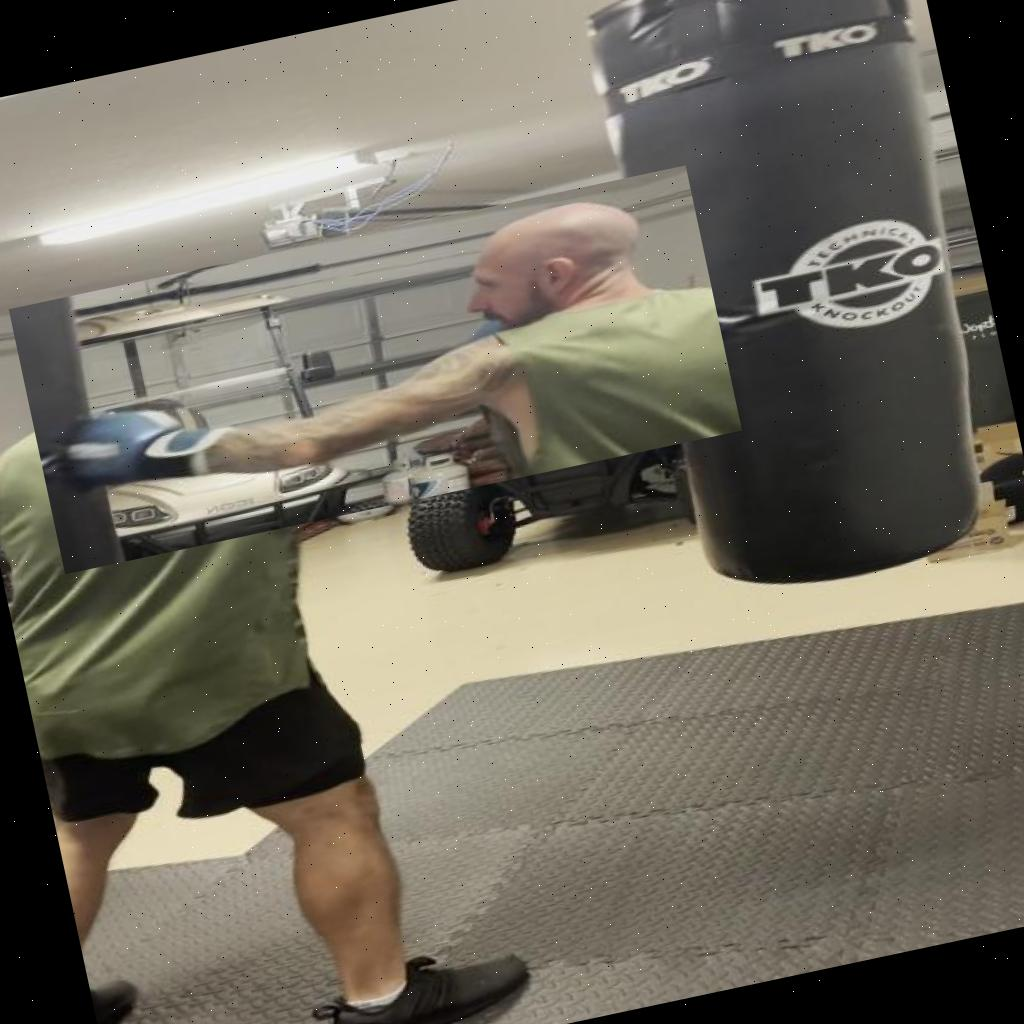bag: (569, 0, 1023, 613)
jab: (9, 166, 742, 574)
